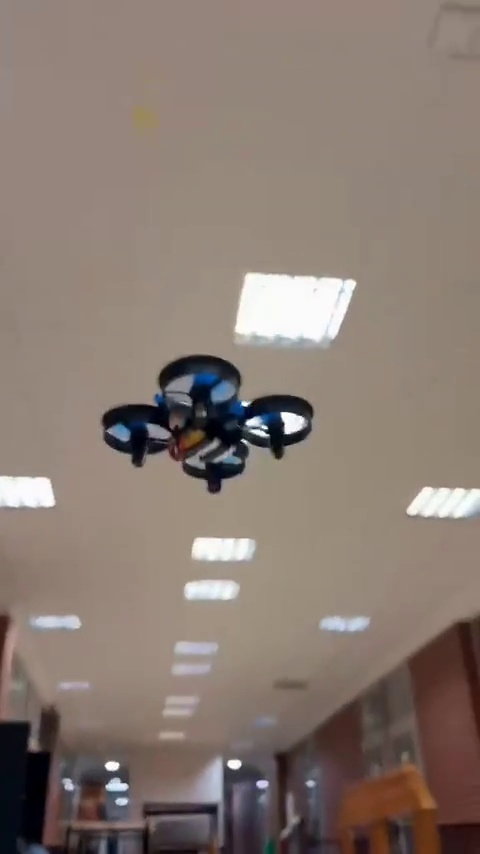drone: (98, 355, 313, 497)
